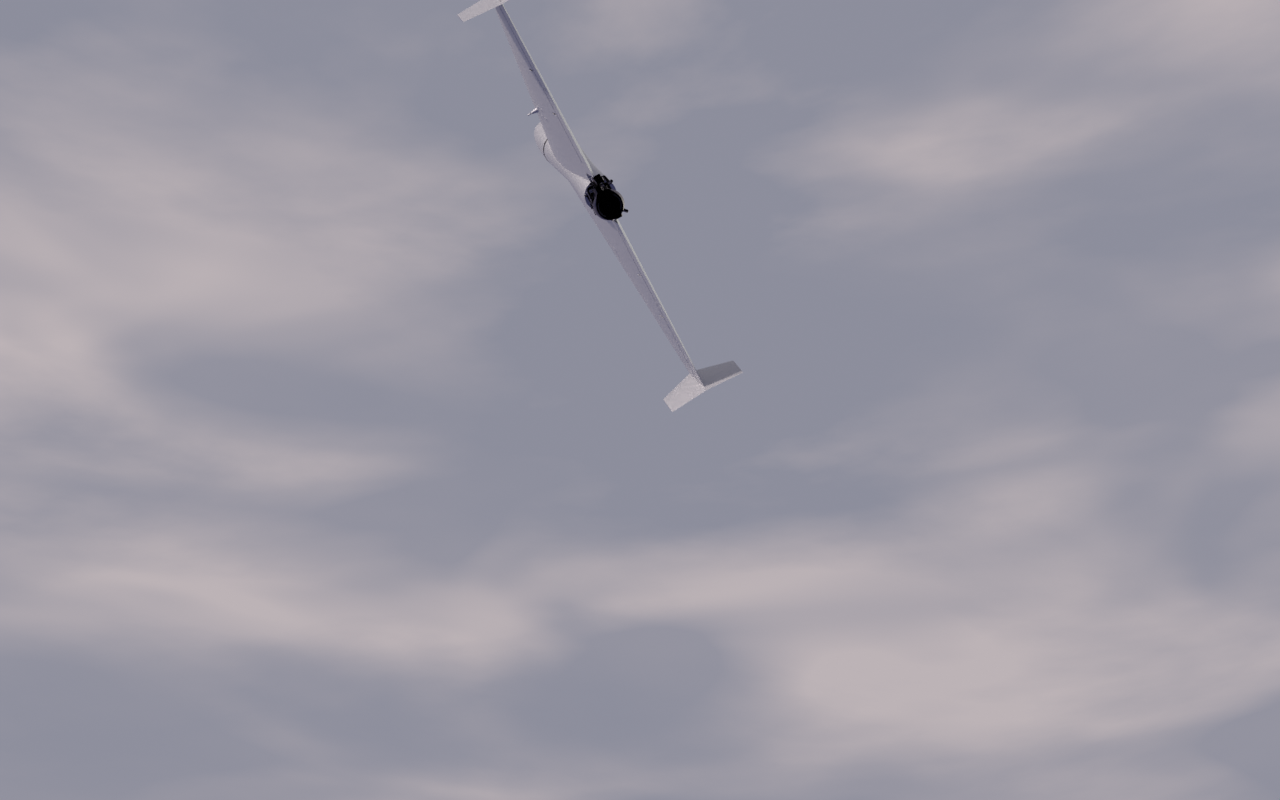shahed: (457, 1, 745, 414)
